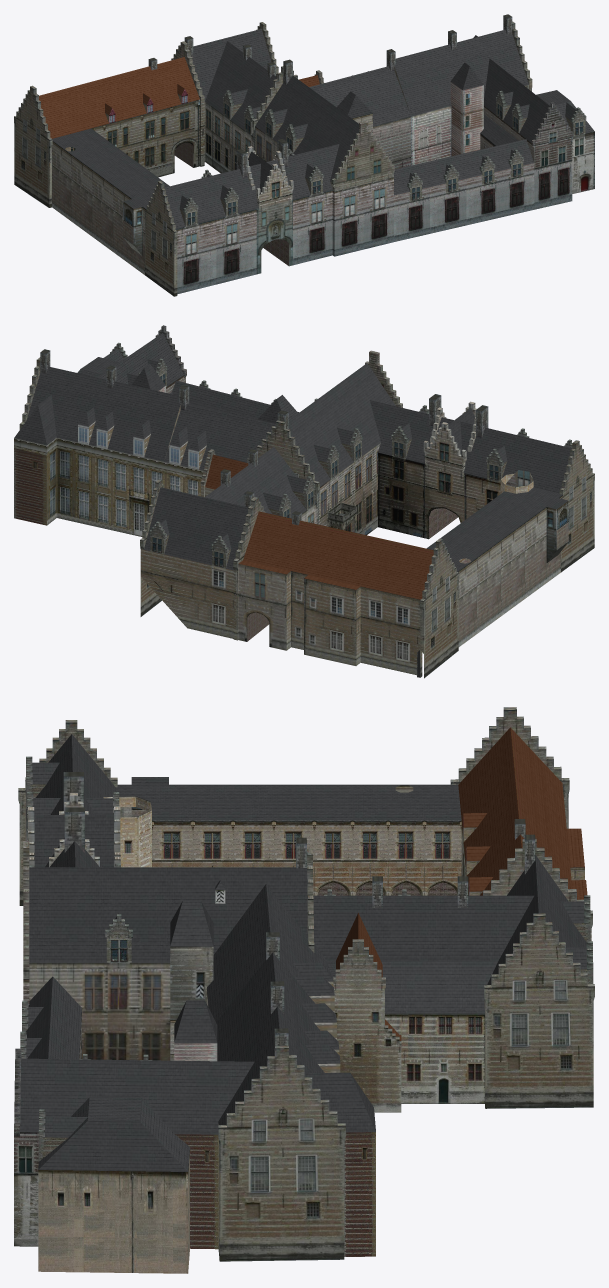
The model's file is house_obj5.obj.
3 views of the same model, one above another, from view 1: azimuth 30°, elevation 25°; view 2: azimuth 150°, elevation 25°; view 3: azimuth 270°, elevation 25° (orthographic). The views are drawn at different scales.
Visible parts, largest first — view 1: house_obj5:polySurface5; view 2: house_obj5:polySurface5; view 3: house_obj5:polySurface5.
Boxes of the visible parts, x1,y1,x2,y2 form: house_obj5:polySurface5: [14, 14, 594, 296]; house_obj5:polySurface5: [14, 325, 594, 678]; house_obj5:polySurface5: [14, 707, 594, 1273].
Bounding box in the file's own units: 7164 × 2033 × 4650.
Materials: 1 (1 with a texture image).
